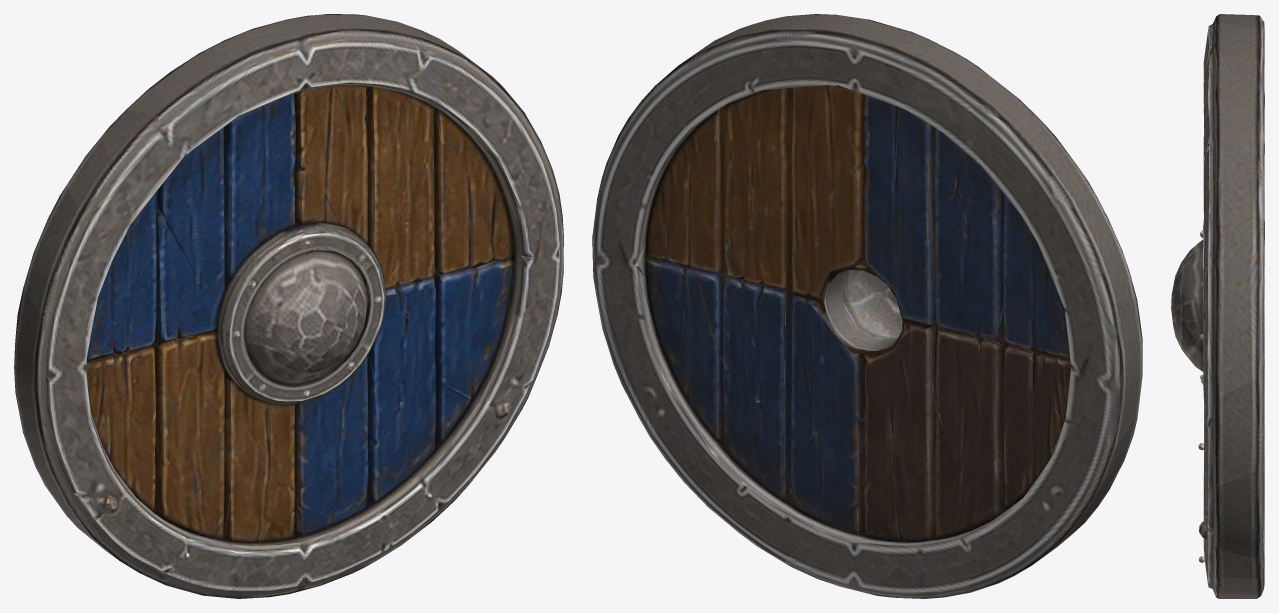
Rendered from squire_shield.glb.
3 views of the same model, side by side, from view 1: azimuth 30°, elevation 25°; view 2: azimuth 150°, elevation 25°; view 3: azimuth 270°, elevation 25° (orthographic). The views are drawn at different scales.
Size of the model in its own units: 1.16 by 1.16 by 0.1862.
Materials: 1 (1 with a texture image).
